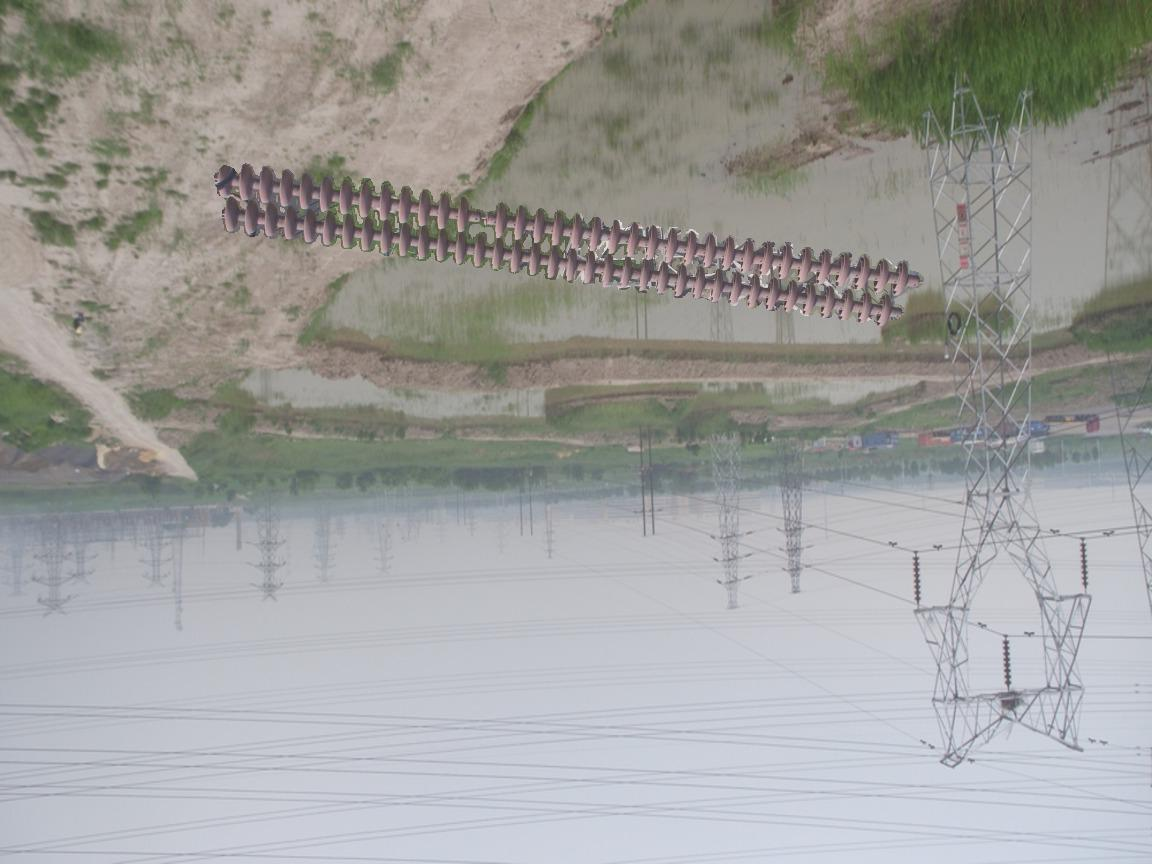insulator: (214, 159, 922, 332), (998, 635, 1015, 688), (910, 552, 925, 603), (1076, 540, 1091, 589)
insulator_stringdrop: (454, 193, 511, 242)
